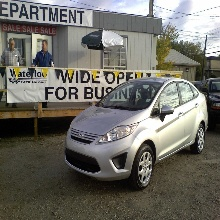no damage: (65, 76, 209, 191)
